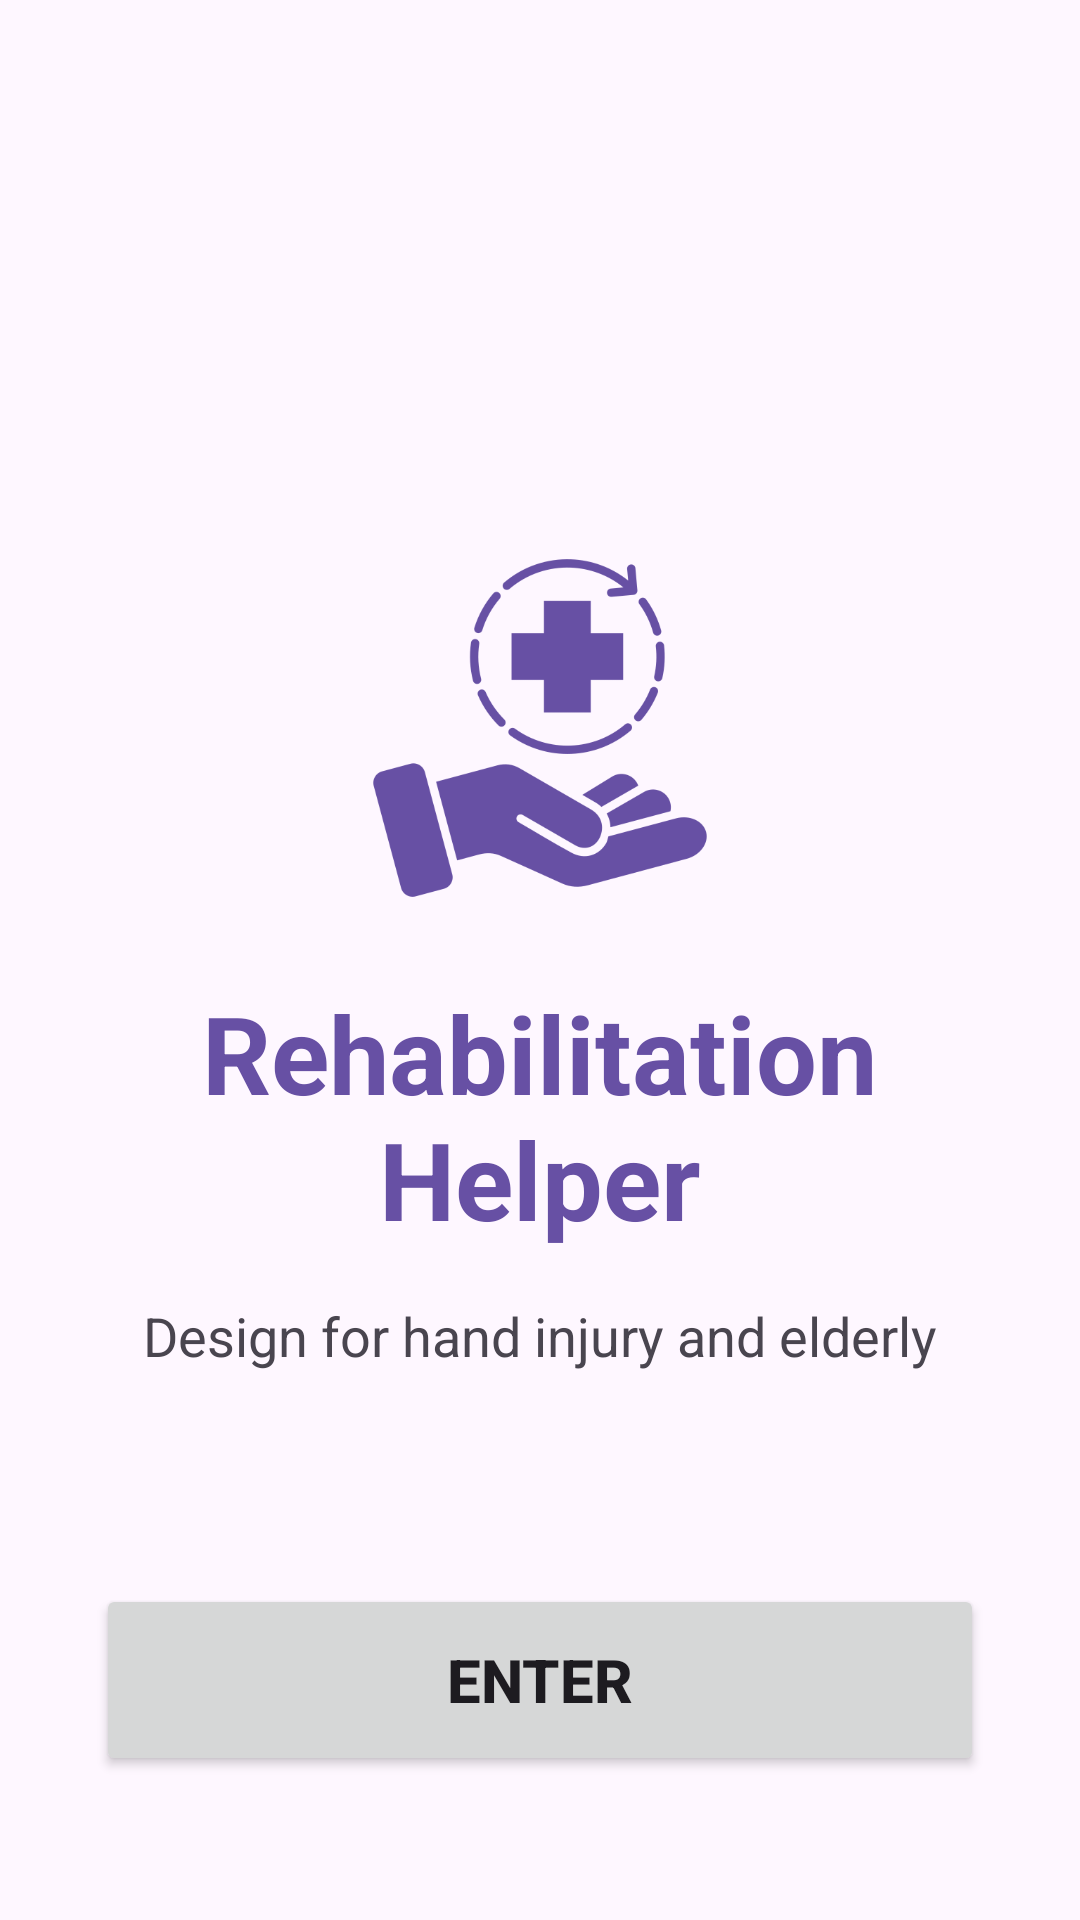

Where icons sit on this 1080*1920 app screen, as (x1, y1, x2, y2):
healing: (373, 559, 707, 897)
